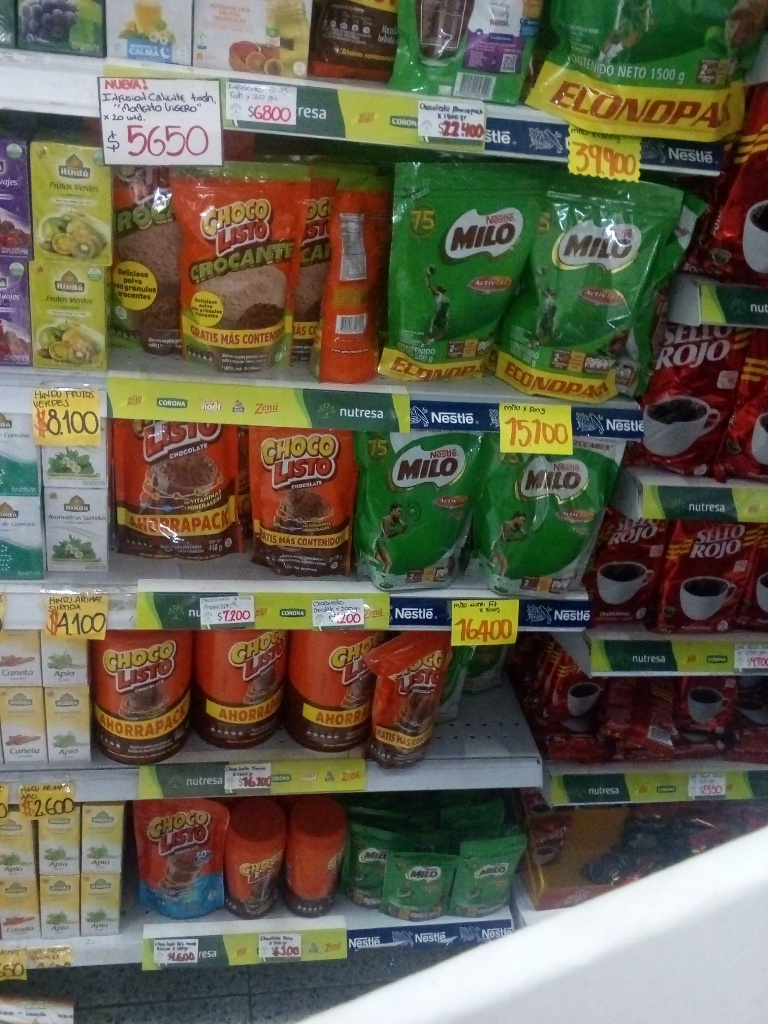COL0170103DYP44000: (108, 420, 239, 564)
COL0170103TRR00100: (87, 632, 203, 761)
COL0170104DYP20000: (126, 803, 217, 923)
COL0170203DYP10000: (344, 798, 399, 923)
COL0170203DYP50000: (374, 155, 524, 396)
